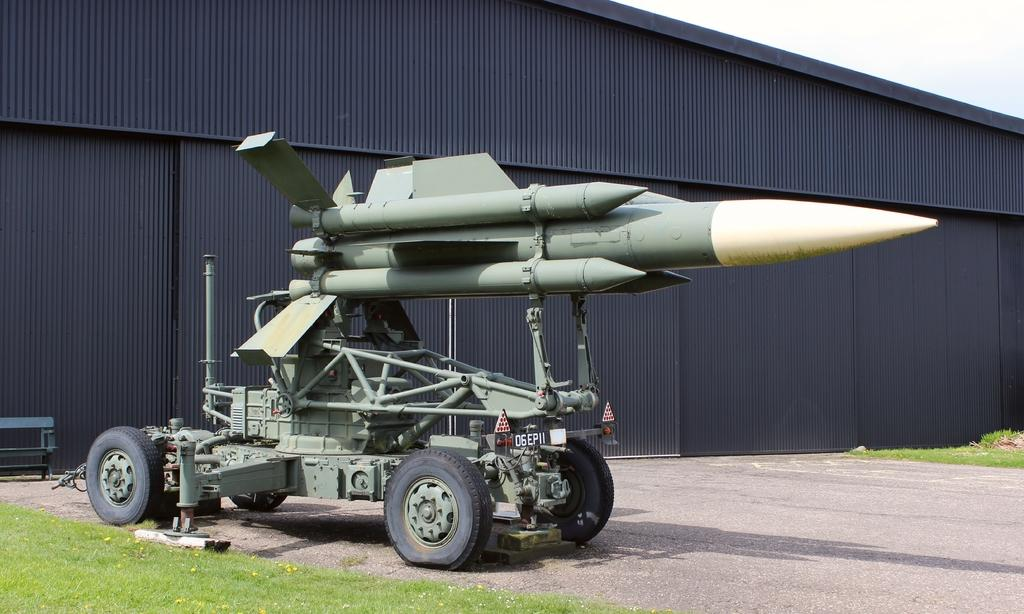Missile: (227, 129, 938, 362)
